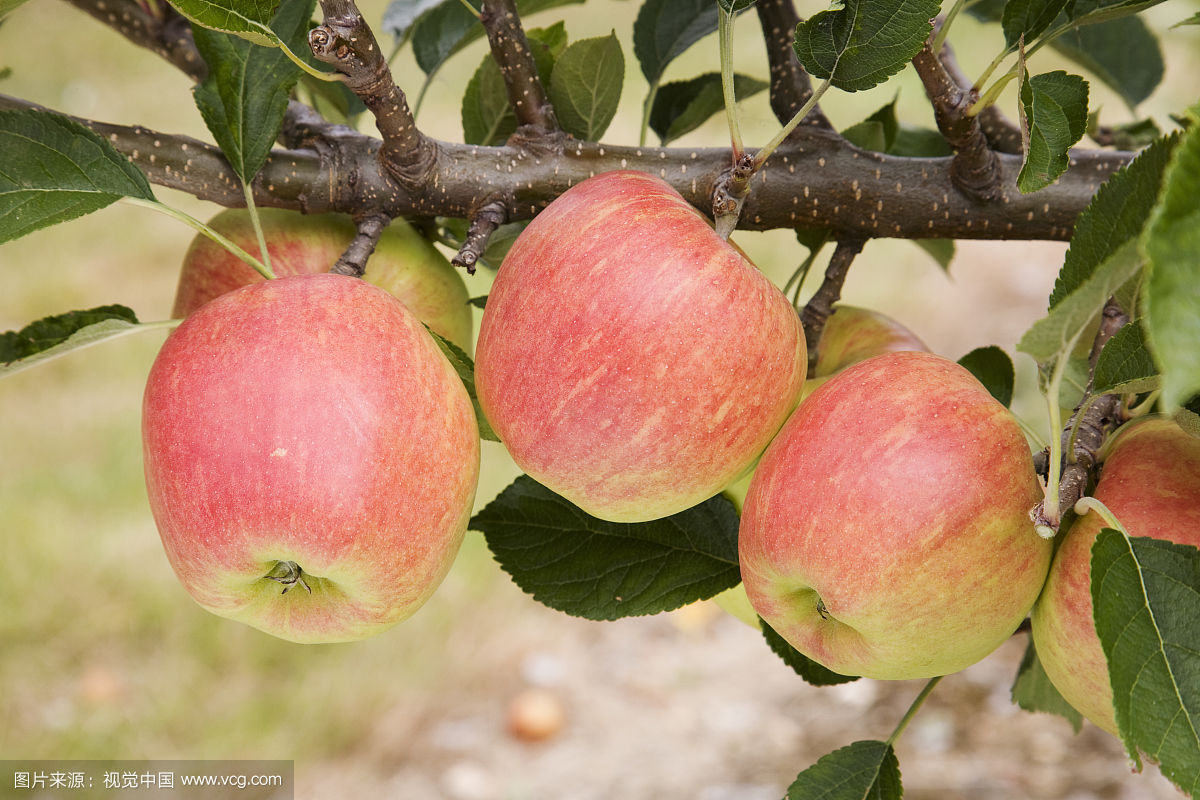apple: (142, 275, 479, 645), (475, 174, 807, 524), (727, 342, 1055, 675)
obscured(3)_apple: (1042, 416, 1200, 743)
